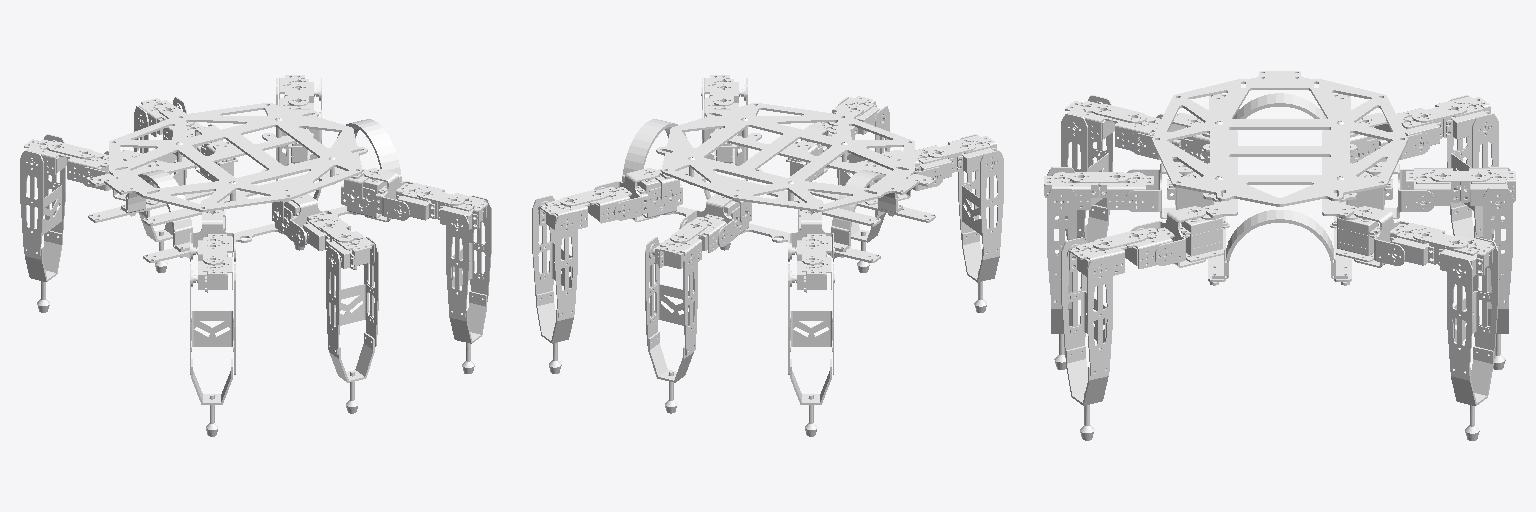
--- Facts derived from the render (not from the file) ---
Views: 3 orthographic renders of the robot side by side, from view 1: azimuth 30°, elevation 25°; view 2: azimuth 150°, elevation 25°; view 3: azimuth 270°, elevation 25°.
Model CRAB_0805 with 37 links and 36 joints (36 revolute), rooted at base_link, posed every joint at zero.
Links seen in each view (by area): view 1: base_link, RF_XI_LINK, LB_XI_LINK, RM_XI_LINK, RB_XI_LINK, RF_ZHOU_LINK, RM_ZHOU_LINK, LB_ZHOU_LINK, RB_ZHOU_LINK, LM_XI_LINK, RF_JIAN_LINK, LF_ZHOU_LINK (+4 smaller); view 2: base_link, LF_XI_LINK, RB_XI_LINK, LM_XI_LINK, LB_XI_LINK, LF_ZHOU_LINK, LM_ZHOU_LINK, RB_ZHOU_LINK, LB_ZHOU_LINK, RM_XI_LINK, LF_JIAN_LINK, RF_ZHOU_LINK (+4 smaller); view 3: base_link, RF_XI_LINK, LF_XI_LINK, RB_XI_LINK, LF_ZHOU_LINK, LM_ZHOU_LINK, RM_XI_LINK, LB_XI_LINK, LM_XI_LINK, RF_ZHOU_LINK, RM_ZHOU_LINK, LB_ZHOU_LINK (+7 smaller).
Link boxes in pixels (x1,y1,x2,y2): base_link: (88, 103, 401, 262); RF_XI_LINK: (446, 195, 491, 373); LB_XI_LINK: (20, 134, 65, 312); RM_XI_LINK: (326, 237, 378, 413); RB_XI_LINK: (190, 264, 235, 436); RF_ZHOU_LINK: (395, 183, 487, 229); RM_ZHOU_LINK: (300, 212, 374, 269); LB_ZHOU_LINK: (24, 139, 108, 182); RB_ZHOU_LINK: (191, 234, 232, 292); LM_XI_LINK: (134, 97, 186, 272); RF_JIAN_LINK: (364, 168, 412, 221); LF_ZHOU_LINK: (279, 75, 320, 117); base_link: (622, 103, 935, 262); LF_XI_LINK: (532, 195, 577, 373); RB_XI_LINK: (958, 134, 1003, 312); LM_XI_LINK: (645, 237, 697, 413); LB_XI_LINK: (788, 264, 833, 436); LF_ZHOU_LINK: (539, 187, 631, 229); LM_ZHOU_LINK: (655, 214, 726, 268); RB_ZHOU_LINK: (915, 135, 996, 178); LB_ZHOU_LINK: (790, 234, 834, 292); RM_XI_LINK: (837, 97, 889, 272); LF_JIAN_LINK: (594, 168, 659, 221); RF_ZHOU_LINK: (701, 75, 740, 117); base_link: (1152, 71, 1407, 285); RF_XI_LINK: (1061, 237, 1112, 440); LF_XI_LINK: (1447, 237, 1498, 440); RB_XI_LINK: (1061, 95, 1112, 288); LF_ZHOU_LINK: (1389, 223, 1494, 276); LM_ZHOU_LINK: (1406, 168, 1515, 207); RM_XI_LINK: (1047, 167, 1076, 369); LB_XI_LINK: (1447, 95, 1498, 289); LM_XI_LINK: (1483, 167, 1512, 369); RF_ZHOU_LINK: (1069, 227, 1174, 276); RM_ZHOU_LINK: (1044, 172, 1153, 209); LB_ZHOU_LINK: (1396, 96, 1490, 150).
Size in the robot's own frame: 0.4247 by 0.504 by 0.2592 metres.
34 mesh visuals loaded from 37 distinct referenced files (34 binary STL); not drawn: 3 (reference not matched to a file when rendering).

URDF robot description (CRAB_0805):
<?xml version="1.0" encoding="utf-8"?>
<!-- This URDF was automatically created by SolidWorks to URDF Exporter! Originally created by Stephen Brawner ([email redacted]) 
     Commit Version: 1.6.0-4-g7f85cfe  Build Version: 1.6.7995.38578
     For more information, please see http://wiki.ros.org/sw_urdf_exporter -->
<robot
  name="CRAB_0805">
  <link
    name="base_link">
    <inertial>
      <origin
        xyz="-0.008760263654412 -0.000396839544223537 -0.00928841996798015"
        rpy="0 0 0" />
      <mass
        value="0.487759555485896" />
      <inertia
        ixx="0.000838151997168944"
        ixy="-3.80585710120713E-09"
        ixz="1.31040513979038E-07"
        iyy="0.00178486179739814"
        iyz="3.05813375710027E-09"
        izz="0.00251247821208881" />
    </inertial>
    <visual>
      <origin
        xyz="0 0 0"
        rpy="0 0 0" />
      <geometry>
        <mesh
          filename="package://CRAB_0805/meshes/base_link.STL" />
      </geometry>
      <material
        name="">
        <color
          rgba="1 1 1 1" />
      </material>
    </visual>
    <collision>
      <origin
        xyz="0 0 0"
        rpy="0 0 0" />
      <geometry>
        <mesh
          filename="package://CRAB_0805/meshes/base_link.STL" />
      </geometry>
    </collision>
  </link>
  <link
    name="RM_JIAN_LINK">
    <inertial>
      <origin
        xyz="0.0244201219206724 2.42861286636753E-17 0.0014814150225653"
        rpy="0 0 0" />
      <mass
        value="0.0112910941477822" />
      <inertia
        ixx="6.49102206619316E-06"
        ixy="2.96805572151101E-21"
        ixz="-1.02290693133488E-09"
        iyy="6.04637024431847E-06"
        iyz="3.59696902698881E-22"
        izz="6.04706077477713E-06" />
    </inertial>
    <visual>
      <origin
        xyz="0 0 0"
        rpy="0 0 0" />
      <geometry>
        <mesh
          filename="package://CRAB_0805/meshes/RM_JIAN_LINK.STL" />
      </geometry>
      <material
        name="">
        <color
          rgba="1 1 1 1" />
      </material>
    </visual>
    <collision>
      <origin
        xyz="0 0 0"
        rpy="0 0 0" />
      <geometry>
        <mesh
          filename="package://CRAB_0805/meshes/RM_JIAN_LINK.STL" />
      </geometry>
    </collision>
  </link>
  <joint
    name="RM_JIAN_JOINT"
    type="revolute">
    <origin
      xyz="0.001 -0.1015 -0.0205"
      rpy="0 0 -1.5708" />
    <parent
      link="base_link" />
    <child
      link="RM_JIAN_LINK" />
    <axis
      xyz="0 0 -1" />
    <limit
      lower="-1.5708"
      upper="1.5708"
      effort="0"
      velocity="0" />
  </joint>
  <link
    name="RM_ZHOU_LINK">
    <inertial>
      <origin
        xyz="0.0396391594133572 0.00182574465334864 -0.00183117810438431"
        rpy="0 0 0" />
      <mass
        value="0.0753858251987763" />
      <inertia
        ixx="1.16745222076052E-05"
        ixy="5.94202594602449E-21"
        ixz="-5.10171003053864E-21"
        iyy="2.11125980635044E-05"
        iyz="-3.51485012854345E-07"
        izz="1.49159407182101E-05" />
    </inertial>
    <visual>
      <origin
        xyz="0 0 0"
        rpy="0 0 0" />
      <geometry>
        <mesh
          filename="package://CRAB_0805/meshes/RM_ZHOU_LINK.STL" />
      </geometry>
      <material
        name="">
        <color
          rgba="1 1 1 1" />
      </material>
    </visual>
    <collision>
      <origin
        xyz="0 0 0"
        rpy="0 0 0" />
      <geometry>
        <mesh
          filename="package://CRAB_0805/meshes/RM_ZHOU_LINK.STL" />
      </geometry>
    </collision>
  </link>
  <joint
    name="RM_ZHOU_JOINT"
    type="revolute">
    <origin
      xyz="0.052 0 0"
      rpy="1.5708 0 0" />
    <parent
      link="RM_JIAN_LINK" />
    <child
      link="RM_ZHOU_LINK" />
    <axis
      xyz="0 0 -1" />
    <limit
      lower="-1.5708"
      upper="1.5708"
      effort="0"
      velocity="0" />
  </joint>
  <link
    name="RM_XI_LINK">
    <inertial>
      <origin
        xyz="0.0932005324069179 -0.0010157129309824 0.000790208592210634"
        rpy="0 0 0" />
      <mass
        value="0.0276700407550857" />
      <inertia
        ixx="5.1714549299637E-06"
        ixy="9.42052533174234E-10"
        ixz="2.22403454373457E-20"
        iyy="2.93413790527495E-05"
        iyz="6.02528977543007E-21"
        izz="2.73009463290136E-05" />
    </inertial>
    <visual>
      <origin
        xyz="0 0 0"
        rpy="0 0 0" />
      <geometry>
        <mesh
          filename="package://CRAB_0805/meshes/RM_XI_LINK.STL" />
      </geometry>
      <material
        name="">
        <color
          rgba="1 1 1 1" />
      </material>
    </visual>
    <collision>
      <origin
        xyz="0 0 0"
        rpy="0 0 0" />
      <geometry>
        <mesh
          filename="package://CRAB_0805/meshes/RM_XI_LINK.STL" />
      </geometry>
    </collision>
  </link>
  <joint
    name="RM_XI_JOINT"
    type="revolute">
    <origin
      xyz="0.08 0 0"
      rpy="0 0 -1.5708" />
    <parent
      link="RM_ZHOU_LINK" />
    <child
      link="RM_XI_LINK" />
    <axis
      xyz="0 0 1" />
    <limit
      lower="-1.5708"
      upper="1.5708"
      effort="0"
      velocity="0" />
  </joint>
  <link
    name="RM_R_LINK">
    <inertial>
      <origin
        xyz="0 -5.55111512312578E-17 -2.77555756156289E-17"
        rpy="0 0 0" />
      <mass
        value="4.18879020478639E-06" />
      <inertia
        ixx="1.67551608191456E-12"
        ixy="0"
        ixz="1.79366203433577E-43"
        iyy="1.67551608191456E-12"
        iyz="1.54721492467482E-29"
        izz="1.67551608191456E-12" />
    </inertial>
    <visual>
      <origin
        xyz="0 0 0"
        rpy="0 0 0" />
      <geometry>
        <mesh
          filename="package://CRAB_0805/meshes/RM_R_LINK.STL" />
      </geometry>
      <material
        name="">
        <color
          rgba="0.792156862745098 0.819607843137255 0.933333333333333 1" />
      </material>
    </visual>
    <collision>
      <origin
        xyz="0 0 0"
        rpy="0 0 0" />
      <geometry>
        <mesh
          filename="package://CRAB_0805/meshes/RM_R_LINK.STL" />
      </geometry>
    </collision>
  </link>
  <joint
    name="RM_R_JOINT"
    type="revolute">
    <origin
      xyz="0.2095 0 0"
      rpy="3.1416 1.5708 0" />
    <parent
      link="RM_XI_LINK" />
    <child
      link="RM_R_LINK" />
    <axis
      xyz="0 0 -1" />
    <limit
      lower="-1.5708"
      upper="1.5708"
      effort="0"
      velocity="0" />
  </joint>
  <link
    name="RM_P_LINK">
    <inertial>
      <origin
        xyz="2.77555756156289E-17 -5.55111512312578E-17 0"
        rpy="0 0 0" />
      <mass
        value="4.18879020478639E-06" />
      <inertia
        ixx="1.67551608191456E-12"
        ixy="-1.54721492467482E-29"
        ixz="-1.79366203433577E-43"
        iyy="1.67551608191456E-12"
        iyz="0"
        izz="1.67551608191456E-12" />
    </inertial>
    <visual>
      <origin
        xyz="0 0 0"
        rpy="0 0 0" />
      <geometry>
        <mesh
          filename="package://CRAB_0805/meshes/RM_P_LINK.STL" />
      </geometry>
      <material
        name="">
        <color
          rgba="0.792156862745098 0.819607843137255 0.933333333333333 1" />
      </material>
    </visual>
    <collision>
      <origin
        xyz="0 0 0"
        rpy="0 0 0" />
      <geometry>
        <mesh
          filename="package://CRAB_0805/meshes/RM_P_LINK.STL" />
      </geometry>
    </collision>
  </link>
  <joint
    name="RM_P_JOINT"
    type="revolute">
    <origin
      xyz="0 0 0"
      rpy="0 1.5708 0" />
    <parent
      link="RM_R_LINK" />
    <child
      link="RM_P_LINK" />
    <axis
      xyz="0 0 -1" />
    <limit
      lower="-1.5708"
      upper="1.5708"
      effort="0"
      velocity="0" />
  </joint>
  <link
    name="RM_Y_LINK">
    <inertial>
      <origin
        xyz="2.77555756156289E-17 1.11022302462516E-16 5.55111512312578E-17"
        rpy="0 0 0" />
      <mass
        value="4.18879020478639E-06" />
      <inertia
        ixx="1.67551608191456E-12"
        ixy="-1.79366203433577E-43"
        ixz="1.54721492467482E-29"
        iyy="1.67551608191456E-12"
        iyz="0"
        izz="1.67551608191456E-12" />
    </inertial>
    <visual>
      <origin
        xyz="0 0 0"
        rpy="0 0 0" />
      <geometry>
        <mesh
          filename="package://CRAB_0805/meshes/RM_Y_LINK.STL" />
      </geometry>
      <material
        name="">
        <color
          rgba="0.792156862745098 0.819607843137255 0.933333333333333 1" />
      </material>
    </visual>
    <collision>
      <origin
        xyz="0 0 0"
        rpy="0 0 0" />
      <geometry>
        <mesh
          filename="package://CRAB_0805/meshes/RM_Y_LINK.STL" />
      </geometry>
    </collision>
  </link>
  <joint
    name="RM_Y_JOINT"
    type="revolute">
    <origin
      xyz="0 0 0"
      rpy="1.5708 0 0" />
    <parent
      link="RM_P_LINK" />
    <child
      link="RM_Y_LINK" />
    <axis
      xyz="0 0 1" />
    <limit
      lower="-1.5708"
      upper="1.5708"
      effort="0"
      velocity="0" />
  </joint>
  <link
    name="RF_JIAN_LINK">
    <inertial>
      <origin
        xyz="0.0244201219206724 1.38777878078145E-17 0.0014814150225653"
        rpy="0 0 0" />
      <mass
        value="0.0112910941477822" />
      <inertia
        ixx="6.49102206619316E-06"
        ixy="8.470329472543E-22"
        ixz="-1.02290693133536E-09"
        iyy="6.04637024431847E-06"
        iyz="2.21559360455071E-21"
        izz="6.04706077477712E-06" />
    </inertial>
    <visual>
      <origin
        xyz="0 0 0"
        rpy="0 0 0" />
      <geometry>
        <mesh
          filename="package://CRAB_0805/meshes/RF_JIAN_LINK.STL" />
      </geometry>
      <material
        name="">
        <color
          rgba="1 1 1 1" />
      </material>
    </visual>
    <collision>
      <origin
        xyz="0 0 0"
        rpy="0 0 0" />
      <geometry>
        <mesh
          filename="package://CRAB_0805/meshes/RF_JIAN_LINK.STL" />
      </geometry>
    </collision>
  </link>
  <joint
    name="RF_JIAN_JOINT"
    type="revolute">
    <origin
      xyz="0.11412 -0.091732 -0.0205"
      rpy="0 0 -1.0472" />
    <parent
      link="base_link" />
    <child
      link="RF_JIAN_LINK" />
    <axis
      xyz="0 0 -1" />
    <limit
      lower="-1.5708"
      upper="1.5708"
      effort="0"
      velocity="0" />
  </joint>
  <link
    name="RF_ZHOU_LINK">
    <inertial>
      <origin
        xyz="0.0396391594133572 0.00182574465334865 -0.00183117810438431"
        rpy="0 0 0" />
      <mass
        value="0.0753858251987762" />
      <inertia
        ixx="1.16745222076052E-05"
        ixy="9.99680377421895E-21"
        ixz="-3.81164826264435E-21"
        iyy="2.11125980635043E-05"
        iyz="-3.51485012854344E-07"
        izz="1.49159407182101E-05" />
    </inertial>
    <visual>
      <origin
        xyz="0 0 0"
        rpy="0 0 0" />
      <geometry>
        <mesh
          filename="package://CRAB_0805/meshes/RF_ZHOU_LINK.STL" />
      </geometry>
      <material
        name="">
        <color
          rgba="1 1 1 1" />
      </material>
    </visual>
    <collision>
      <origin
        xyz="0 0 0"
        rpy="0 0 0" />
      <geometry>
        <mesh
          filename="package://CRAB_0805/meshes/RF_ZHOU_LINK.STL" />
      </geometry>
    </collision>
  </link>
  <joint
    name="RF_ZHOU_JOINT"
    type="revolute">
    <origin
      xyz="0.052 0 0"
      rpy="1.5708 0 0" />
    <parent
      link="RF_JIAN_LINK" />
    <child
      link="RF_ZHOU_LINK" />
    <axis
      xyz="0 0 -1" />
    <limit
      lower="-1.5708"
      upper="1.5708"
      effort="0"
      velocity="0" />
  </joint>
  <link
    name="RF_XI_LINK">
    <inertial>
      <origin
        xyz="0.093200532406918 -0.0010157129309824 0.000790208592210601"
        rpy="0 0 0" />
      <mass
        value="0.0276700407550858" />
      <inertia
        ixx="5.17145492996371E-06"
        ixy="9.42052533167247E-10"
        ixz="1.60496100546135E-20"
        iyy="2.93413790527494E-05"
        iyz="2.45639554703747E-20"
        izz="2.73009463290135E-05" />
    </inertial>
    <visual>
      <origin
        xyz="0 0 0"
        rpy="0 0 0" />
      <geometry>
        <mesh
          filename="package://CRAB_0805/meshes/RF_XI_LINK.STL" />
      </geometry>
      <material
        name="">
        <color
          rgba="1 1 1 1" />
      </material>
    </visual>
    <collision>
      <origin
        xyz="0 0 0"
        rpy="0 0 0" />
      <geometry>
        <mesh
          filename="package://CRAB_0805/meshes/RF_XI_LINK.STL" />
      </geometry>
    </collision>
  </link>
  <joint
    name="RF_XI_JOINT"
    type="revolute">
    <origin
      xyz="0.08 0 0"
      rpy="0 0 -1.5708" />
    <parent
      link="RF_ZHOU_LINK" />
    <child
      link="RF_XI_LINK" />
    <axis
      xyz="0 0 1" />
    <limit
      lower="-1.5708"
      upper="1.5708"
      effort="0"
      velocity="0" />
  </joint>
  <link
    name="RF_R_LINK">
    <inertial>
      <origin
        xyz="0 -5.55111512312578E-17 -8.32667268468867E-17"
        rpy="0 0 0" />
      <mass
        value="4.18879020478639E-06" />
      <inertia
        ixx="1.67551608191456E-12"
        ixy="0"
        ixz="1.79366203433577E-43"
        iyy="1.67551608191456E-12"
        iyz="3.09442984934322E-29"
        izz="1.67551608191456E-12" />
    </inertial>
    <visual>
      <origin
        xyz="0 0 0"
        rpy="0 0 0" />
      <geometry>
        <mesh
          filename="package://CRAB_0805/meshes/RF_R_LINK.STL" />
      </geometry>
      <material
        name="">
        <color
          rgba="0.792156862745098 0.819607843137255 0.933333333333333 1" />
      </material>
    </visual>
    <collision>
      <origin
        xyz="0 0 0"
        rpy="0 0 0" />
      <geometry>
        <mesh
          filename="package://CRAB_0805/meshes/RF_R_LINK.STL" />
      </geometry>
    </collision>
  </link>
  <joint
    name="RF_R_JOINT"
    type="revolute">
    <origin
      xyz="0.2095 0 0"
      rpy="-1.5708 1.0472 1.5708" />
    <parent
      link="RF_XI_LINK" />
    <child
      link="RF_R_LINK" />
    <axis
      xyz="0 0 -1" />
    <limit
      lower="-1.5708"
      upper="1.5708"
      effort="0"
      velocity="0" />
  </joint>
  <link
    name="RF_P_LINK">
    <inertial>
      <origin
        xyz="0 0 0"
        rpy="0 0 0" />
      <mass
        value="4.18879020478639E-06" />
      <inertia
        ixx="1.67551608191456E-12"
        ixy="-3.09442984934322E-29"
        ixz="-1.79366203433577E-43"
        iyy="1.67551608191456E-12"
        iyz="0"
        izz="1.67551608191456E-12" />
    </inertial>
    <visual>
      <origin
        xyz="0 0 0"
        rpy="0 0 0" />
      <geometry>
        <mesh
          filename="package://CRAB_0805/meshes/RF_P_LINK.STL" />
      </geometry>
      <material
        name="">
        <color
          rgba="0.792156862745098 0.819607843137255 0.933333333333333 1" />
      </material>
    </visual>
    <collision>
      <origin
        xyz="0 0 0"
        rpy="0 0 0" />
      <geometry>
        <mesh
          filename="package://CRAB_0805/meshes/RF_P_LINK.STL" />
      </geometry>
    </collision>
  </link>
  <joint
    name="RF_P_JOINT"
    type="revolute">
    <origin
      xyz="0 0 0"
      rpy="0 1.5708 0" />
    <parent
      link="RF_R_LINK" />
    <child
      link="RF_P_LINK" />
    <axis
      xyz="0 0 -1" />
    <limit
      lower="-1.5708"
      upper="1.5708"
      effort="0"
      velocity="0" />
  </joint>
  <link
    name="RF_Y_LINK">
    <inertial>
      <origin
        xyz="2.77555756156289E-17 0 5.55111512312578E-17"
        rpy="0 0 0" />
      <mass
        value="4.18879020478639E-06" />
      <inertia
        ixx="1.67551608191456E-12"
        ixy="-1.79366203433577E-43"
        ixz="3.09442984934322E-29"
        iyy="1.67551608191456E-12"
        iyz="0"
        izz="1.67551608191456E-12" />
    </inertial>
    <visual>
      <origin
        xyz="0 0 0"
        rpy="0 0 0" />
      <geometry>
        <mesh
          filename="package://CRAB_0805/meshes/RF_Y_LINK.STL" />
      </geometry>
      <material
        name="">
        <color
          rgba="0.792156862745098 0.819607843137255 0.933333333333333 1" />
      </material>
    </visual>
    <collision>
      <origin
        xyz="0 0 0"
        rpy="0 0 0" />
      <geometry>
        <mesh
          filename="package://CRAB_0805/meshes/RF_Y_LINK.STL" />
      </geometry>
    </collision>
  </link>
  <joint
    name="RF_Y_JOINT"
    type="revolute">
    <origin
      xyz="0 0 0"
      rpy="1.5708 0 0" />
    <parent
      link="RF_P_LINK" />
    <child
      link="RF_Y_LINK" />
    <axis
      xyz="0 0 1" />
    <limit
      lower="-1.5708"
      upper="1.5708"
      effort="0"
      velocity="0" />
  </joint>
  <link
    name="LF_JIAN_LINK">
    <inertial>
      <origin
        xyz="0.0244201219206724 -1.38777878078145E-17 0.00148141502256527"
        rpy="0 0 0" />
      <mass
        value="0.0112910941477822" />
      <inertia
        ixx="6.49102206619317E-06"
        ixy="7.83505476210228E-21"
        ixz="-1.02290693133999E-09"
        iyy="6.04637024431849E-06"
        iyz="3.37787049473538E-21"
        izz="6.04706077477715E-06" />
    </inertial>
    <visual>
      <origin
        xyz="0 0 0"
        rpy="0 0 0" />
      <geometry>
        <mesh
          filename="package://CRAB_0805/meshes/LF_JIAN_LINK.STL" />
      </geometry>
      <material
        name="">
        <color
          rgba="1 1 1 1" />
      </material>
    </visual>
    <collision>
      <origin
        xyz="0 0 0"
        rpy="0 0 0" />
      <geometry>
        <mesh
          filename="package://CRAB_0805/meshes/LF_JIAN_LINK.STL" />
      </geometry>
    </collision>
  </link>
  <joint
    name="LF_JIAN_JOINT"
    type="revolute">
    <origin
      xyz="0.11412 0.091732 -0.0205"
      rpy="0 0 1.0472" />
    <parent
      link="base_link" />
    <child
      link="LF_JIAN_LINK" />
    <axis
      xyz="0 0 -1" />
    <limit
      lower="-1.5708"
      upper="1.5708"
      effort="0"
      velocity="0" />
  </joint>
  <link
    name="LF_ZHOU_LINK">
    <inertial>
      <origin
        xyz="0.0396391594133572 0.00182574465334865 -0.00183117810438427"
        rpy="0 0 0" />
      <mass
        value="0.0753858251987763" />
      <inertia
        ixx="1.16745222076053E-05"
        ixy="8.34482585687389E-21"
        ixz="-8.470329472543E-22"
        iyy="2.11125980635044E-05"
        iyz="-3.5148501285434E-07"
        izz="1.49159407182101E-05" />
    </inertial>
    <visual>
      <origin
        xyz="0 0 0"
        rpy="0 0 0" />
      <geometry>
        <mesh
          filename="package://CRAB_0805/meshes/LF_ZHOU_LINK.STL" />
      </geometry>
      <material
        name="">
        <color
          rgba="1 1 1 1" />
      </material>
    </visual>
    <collision>
      <origin
        xyz="0 0 0"
        rpy="0 0 0" />
      <geometry>
        <mesh
          filename="package://CRAB_0805/meshes/LF_ZHOU_LINK.STL" />
      </geometry>
    </collision>
  </link>
  <joint
    name="LF_ZHOU_JOINT"
    type="revolute">
    <origin
      xyz="0.052 0 0"
      rpy="1.5708 0 0" />
    <parent
      link="LF_JIAN_LINK" />
    <child
      link="LF_ZHOU_LINK" />
    <axis
      xyz="0 0 -1" />
    <limit
      lower="-1.5708"
      upper="1.5708"
      effort="0"
      velocity="0" />
  </joint>
  <link
    name="LF_XI_LINK">
    <inertial>
      <origin
        xyz="0.0932005324069179 -0.00101571293098254 0.000790208592210642"
        rpy="0 0 0" />
      <mass
        value="0.0276700407550858" />
      <inertia
        ixx="5.1714549299637E-06"
        ixy="9.42052533169355E-10"
        ixz="1.76589769786186E-20"
        iyy="2.93413790527495E-05"
        iyz="0"
        izz="2.73009463290136E-05" />
    </inertial>
    <visual>
      <origin
        xyz="0 0 0"
        rpy="0 0 0" />
      <geometry>
        <mesh
          filename="package://CRAB_0805/meshes/LF_XI_LINK.STL" />
      </geometry>
      <material
        name="">
        <color
          rgba="1 1 1 1" />
      </material>
    </visual>
    <collision>
      <origin
        xyz="0 0 0"
        rpy="0 0 0" />
      <geometry>
        <mesh
          filename="package://CRAB_0805/meshes/LF_XI_LINK.STL" />
      </geometry>
    </collision>
  </link>
  <joint
    name="LF_XI_JOINT"
    type="revolute">
    <origin
      xyz="0.08 0 0"
      rpy="0 0 -1.5708" />
    <parent
      link="LF_ZHOU_LINK" />
    <child
      link="LF_XI_LINK" />
    <axis
      xyz="0 0 1" />
    <limit
      lower="-1.5708"
      upper="1.5708"
      effort="0"
      velocity="0" />
  </joint>
  <link
    name="LF_R_LINK">
    <inertial>
      <origin
        xyz="2.77555756156289E-17 2.77555756156289E-17 0"
        rpy="0 0 0" />
      <mass
        value="4.18879020478639E-06" />
      <inertia
        ixx="1.67551608191456E-12"
        ixy="0"
        ixz="1.79366203433577E-43"
        iyy="1.67551608191456E-12"
        iyz="3.09442984934322E-29"
        izz="1.67551608191456E-12" />
    </inertial>
    <visual>
      <origin
        xyz="0 0 0"
        rpy="0 0 0" />
      <geometry>
        <mesh
          filename="package://CRAB_0805/meshes/LF_R_LINK.STL" />
      </geometry>
      <material
        name="">
        <color
          rgba="0.792156862745098 0.819607843137255 0.933333333333333 1" />
      </material>
    </visual>
    <collision>
      <origin
        xyz="0 0 0"
        rpy="0 0 0" />
      <geometry>
        <mesh
          filename="package://CRAB_0805/meshes/LF_R_LINK.STL" />
      </geometry>
    </collision>
  </link>
  <joint
    name="LF_R_JOINT"
    type="revolute">
    <origin
      xyz="0.2095 0 0"
      rpy="-1.5708 -1.0472 1.5708" />
    <parent
      link="LF_XI_LINK" />
    <child
      link="LF_R_LINK" />
    <axis
      xyz="0 0 -1" />
    <limit
      lower="-1.5708"
      upper="1.5708"
      effort="0"
      velocity="0" />
  </joint>
  <link
    name="LF_P_LINK">
    <inertial>
      <origin
        xyz="0 2.77555756156289E-17 2.77555756156289E-17"
        rpy="0 0 0" />
      <mass
        value="4.18879020478639E-06" />
      <inertia
        ixx="1.67551608191456E-12"
        ixy="-3.09442984934322E-29"
        ixz="-1.79366203433577E-43"
        iyy="1.67551608191456E-12"
        iyz="0"
        izz="1.67551608191456E-12" />
    </inertial>
    <visual>
      <origin
        xyz="0 0 0"
        rpy="0 0 0" />
      <geometry>
        <mesh
          filename="package://CRAB_0805/meshes/LF_P_LINK.STL" />
      </geometry>
      <material
        name="">
        <color
          rgba="0.792156862745098 0.819607843137255 0.933333333333333 1" />
      </material>
    </visual>
    <collision>
      <origin
        xyz="0 0 0"
        rpy="0 0 0" />
      <geometry>
        <mesh
          filename="package://CRAB_0805/meshes/LF_P_LINK.STL" />
      </geometry>
    </collision>
  </link>
  <joint
    name="LF_P_JOINT"
    type="revolute">
    <origin
      xyz="0 0 0"
      rpy="0 1.5708 0" />
    <parent
      link="LF_R_LINK" />
    <child
      link="LF_P_LINK" />
    <axis
      xyz="0 0 -1" />
    <limit
      lower="-1.5708"
      upper="1.5708"
      effort="0"
      velocity="0" />
  </joint>
  <link
    name="LF_Y_LINK">
    <inertial>
      <origin
        xyz="0 1.38777878078145E-16 -2.77555756156289E-17"
        rpy="0 0 0" />
      <mass
        value="4.18879020478639E-06" />
      <inertia
        ixx="1.67551608191456E-12"
        ixy="-1.79366203433577E-43"
        ixz="3.09442984934322E-29"
        iyy="1.67551608191456E-12"
        iyz="0"
        izz="1.67551608191456E-12" />
    </inertial>
    <visual>
      <origin
        xyz="0 0 0"
        rpy="0 0 0" />
      <geometry>
        <mesh
          filename="package://CRAB_0805/meshes/LF_Y_LINK.STL" />
      </geometry>
      <material
        name="">
        <color
          rgba="0.792156862745098 0.819607843137255 0.933333333333333 1" />
      </material>
    </visual>
    <collision>
      <origin
        xyz="0 0 0"
        rpy="0 0 0" />
      <geometry>
        <mesh
          filename="package://CRAB_0805/meshes/LF_Y_LINK.STL" />
      </geometry>
    </collision>
  </link>
  <joint
    name="LF_Y_JOINT"
    type="revolute">
    <origin
      xyz="0 0 0"
      rpy="1.5708 0 0" />
    <parent
      link="LF_P_LINK" />
    <child
      link="LF_Y_LINK" />
    <axis
      xyz="0 0 1" />
    <limit
      lower="-1.5708"
      upper="1.5708"
      effort="0"
      velocity="0" />
  </joint>
  <link
    name="LM_JIAN_LINK">
    <inertial>
      <origin
        xyz="0.0244201219206724 0 0.0014814150225653"
        rpy="0 0 0" />
      <mass
        value="0.0112910941477822" />
      <inertia
        ixx="6.49102206619317E-06"
        ixy="2.07089857546024E-21"
        ixz="-1.02290693133586E-09"
        iyy="6.04637024431848E-06"
        iyz="1.52776577782859E-21"
        izz="6.04706077477715E-06" />
    </inertial>
    <visual>
      <origin
        xyz="0 0 0"
        rpy="0 0 0" />
      <geometry>
        <mesh
          filename="package://CRAB_0805/meshes/LM_JIAN_LINK.STL" />
      </geometry>
      <material
        name="">
        <color
          rgba="1 1 1 1" />
      </material>
    </visual>
    <collision>
      <origin
        xyz="0 0 0"
        rpy="0 0 0" />
      <geometry>
        <mesh
          filename="package://CRAB_0805/meshes/LM_JIAN_LINK.STL" />
      </geometry>
    </collision>
  </link>
  <joint
    name="LM_JIAN_JOINT"
    type="revolute">
    <origin
      xyz="0.001 0.1015 -0.0205"
      rpy="0 0 1.5708" />
    <parent
      link="base_link" />
    <child
      link="LM_JIAN_LINK" />
    <axis
      xyz="0 0 -1" />
    <limit
      lower="-1.5708"
      upper="1.5708"
      effort="0"
      velocity="0" />
  </joint>
  <link
    name="LM_ZHOU_LINK">
    <inertial>
      <origin
        xyz="0.0396391594133572 0.00182574465334819 -0.00183117810438437"
        rpy="0 0 0" />
      <mass
        value="0.0753858251987764" />
      <inertia
        ixx="1.16745222076053E-05"
        ixy="1.18503643541483E-19"
        ixz="7.16012690756494E-22"
        iyy="2.11125980635044E-05"
        iyz="-3.51485012854346E-07"
        izz="1.49159407182101E-05" />
    </inertial>
    <visual>
      <origin
        xyz="0 0 0"
        rpy="0 0 0" />
      <geometry>
        <mesh
          filename="package://CRAB_0805/meshes/LM_ZHOU_LINK.STL" />
      </geometry>
      <material
        name="">
        <color
          rgba="1 1 1 1" />
      </material>
    </visual>
    <collision>
      <origin
        xyz="0 0 0"
        rpy="0 0 0" />
      <geometry>
        <mesh
          filename="package://CRAB_0805/meshes/LM_ZHOU_LINK.STL" />
      </geometry>
    </collision>
  </link>
  <joint
    name="LM_ZHOU_JOINT"
    type="revolute">
    <origin
      xyz="0.052 0 0"
      rpy="1.5708 0 0" />
    <parent
      link="LM_JIAN_LINK" />
    <child
      link="LM_ZHOU_LINK" />
    <axis
      xyz="0 0 -1" />
    <limit
      lower="-1.5708"
      upper="1.5708"
      effort="0"
      velocity="0" />
  </joint>
  <link
    name="LM_XI_LINK">
    <inertial>
      <origin
        xyz="0.0932005324069179 -0.00101571293098252 0.000790208592210656"
        rpy="0 0 0" />
      <mass
        value="0.0276700407550857" />
      <inertia
        ixx="5.17145492996367E-06"
        ixy="9.42052533166694E-10"
        ixz="2.11695652161137E-20"
        iyy="2.93413790527494E-05"
        iyz="1.14203509269988E-20"
        izz="2.73009463290135E-05" />
    </inertial>
    <visual>
      <origin
        xyz="0 0 0"
        rpy="0 0 0" />
      <geometry>
        <mesh
          filename="package://CRAB_0805/meshes/LM_XI_LINK.STL" />
      </geometry>
      <material
        name="">
        <color
          rgba="1 1 1 1" />
      </material>
    </visual>
    <collision>
      <origin
        xyz="0 0 0"
        rpy="0 0 0" />
      <geometry>
        <mesh
          filename="package://CRAB_0805/meshes/LM_XI_LINK.STL" />
      </geometry>
    </collision>
  </link>
  <joint
    name="LM_XI_JOINT"
    type="revolute">
    <origin
      xyz="0.08 0 0"
      rpy="0 0 -1.5708" />
    <parent
      link="LM_ZHOU_LINK" />
    <child
      link="LM_XI_LINK" />
    <axis
      xyz="0 0 1" />
    <limit
      lower="-1.5708"
      upper="1.5708"
      effort="0"
      velocity="0" />
  </joint>
  <link
    name="LM_R_LINK">
    <inertial>
      <origin
        xyz="0 0 0"
        rpy="0 0 0" />
      <mass
        value="4.18879020478639E-06" />
      <inertia
        ixx="1.67551608191456E-12"
        ixy="0"
        ixz="1.79366203433577E-43"
        iyy="1.67551608191456E-12"
        iyz="1.54721492467482E-29"
        izz="1.67551608191456E-12" />
    </inertial>
    <visual>
      <origin
        xyz="0 0 0"
        rpy="0 0 0" />
      <geometry>
        <mesh
          filename="package://CRAB_0805/meshes/LM_R_LINK.STL" />
      </geometry>
      <material
        name="">
        <color
          rgba="0.792156862745098 0.819607843137255 0.933333333333333 1" />
      </material>
    </visual>
    <collision>
      <origin
        xyz="0 0 0"
        rpy="0 0 0" />
      <geometry>
        <mesh
          filename="package://CRAB_0805/meshes/LM_R_LINK.STL" />
      </geometry>
    </collision>
  </link>
  <joint
    name="LM_R_JOINT"
    type="revolute">
    <origin
      xyz="0.2095 0 0"
      rpy="3.1416 -1.5708 0" />
    <parent
      link="LM_XI_LINK" />
    <child
      link="LM_R_LINK" />
    <axis
      xyz="0 0 -1" />
    <limit
      lower="-1.5708"
      upper="1.5708"
      effort="0"
      velocity="0" />
  </joint>
  <link
    name="LM_P_LINK">
    <inertial>
      <origin
        xyz="0 0 0"
        rpy="0 0 0" />
      <mass
        value="4.18879020478639E-06" />
      <inertia
        ixx="1.67551608191456E-12"
        ixy="-1.54721492467482E-29"
        ixz="-1.79366203433577E-43"
        iyy="1.67551608191456E-12"
        iyz="0"
        izz="1.67551608191456E-12" />
    </inertial>
    <visual>
      <origin
        xyz="0 0 0"
        rpy="0 0 0" />
      <geometry>
        <mesh
          filename="package://CRAB_0805/meshes/LM_P_LINK.STL" />
      </geometry>
      <material
        name="">
        <color
          rgba="0.792156862745098 0.819607843137255 0.933333333333333 1" />
      </material>
    </visual>
    <collision>
      <origin
        xyz="0 0 0"
        rpy="0 0 0" />
      <geometry>
        <mesh
          filename="package://CRAB_0805/meshes/LM_P_LINK.STL" />
      </geometry>
    </collision>
  </link>
  <joint
    name="LM_P_JOINT"
    type="revolute">
    <origin
      xyz="0 0 0"
      rpy="0 1.5708 0" />
    <parent
      link="LM_R_LINK" />
    <child
      link="LM_P_LINK" />
    <axis
      xyz="0 0 -1" />
    <limit
      lower="-1.5708"
      upper="1.5708"
      effort="0"
      velocity="0" />
  </joint>
  <link
    name="LM_Y_LINK">
    <inertial>
      <origin
        xyz="0 0 0"
        rpy="0 0 0" />
      <mass
        value="4.18879020478639E-06" />
      <inertia
        ixx="1.67551608191456E-12"
        ixy="-1.79366203433577E-43"
        ixz="1.54721492467482E-29"
        iyy="1.67551608191456E-12"
        iyz="0"
        izz="1.67551608191456E-12" />
    </inertial>
    <visual>
      <origin
        xyz="0 0 0"
        rpy="0 0 0" />
      <geometry>
        <mesh
          filename="package://CRAB_0805/meshes/LM_Y_LINK.STL" />
      </geometry>
      <material
        name="">
        <color
          rgba="0.792156862745098 0.819607843137255 0.933333333333333 1" />
      </material>
    </visual>
    <collision>
      <origin
        xyz="0 0 0"
        rpy="0 0 0" />
      <geometry>
        <mesh
          filename="package://CRAB_0805/meshes/LM_Y_LINK.STL" />
      </geometry>
    </collision>
  </link>
  <joint
    name="LM_Y_JOINT"
    type="revolute">
    <origin
      xyz="0 0 0"
      rpy="1.5708 0 0" />
    <parent
      link="LM_P_LINK" />
    <child
      link="LM_Y_LINK" />
    <axis
      xyz="0 0 1" />
    <limit
      lower="-1.5708"
      upper="1.5708"
      effort="0"
      velocity="0" />
  </joint>
  <link
    name="LB_JIAN_LINK">
    <inertial>
      <origin
        xyz="0.0244201219206724 -1.38777878078145E-17 0.0014814150225653"
        rpy="0 0 0" />
      <mass
        value="0.0112910941477822" />
      <inertia
        ixx="6.49102206619318E-06"
        ixy="-1.6940658945086E-21"
        ixz="-1.02290693133348E-09"
        iyy="6.04637024431849E-06"
        iyz="-8.13120837817316E-24"
        izz="6.04706077477715E-06" />
    </inertial>
    <visual>
      <origin
        xyz="0 0 0"
        rpy="0 0 0" />
      <geometry>
        <mesh
          filename="package://CRAB_0805/meshes/LB_JIAN_LINK.STL" />
      </geometry>
      <material
        name="">
        <color
          rgba="1 1 1 1" />
      </material>
    </visual>
    <collision>
      <origin
        xyz="0 0 0"
        rpy="0 0 0" />
      <geometry>
        <mesh
          filename="package://CRAB_0805/meshes/LB_JIAN_LINK.STL" />
      </geometry>
    </collision>
  </link>
  <joint
    name="LB_JIAN_JOINT"
    type="revolute">
    <origin
      xyz="-0.11412 0.091732 -0.0205"
      rpy="0 0 2.0944" />
    <parent
      link="base_link" />
    <child
      link="LB_JIAN_LINK" />
    <axis
      xyz="0 0 -1" />
    <limit
      lower="-1.5708"
      upper="1.5708"
      effort="0"
      velocity="0" />
  </joint>
  <link
    name="LB_ZHOU_LINK">
    <inertial>
      <origin
        xyz="0.0396391594133572 0.00182574465334864 -0.00183117810438425"
        rpy="0 0 0" />
      <mass
        value="0.0753858251987763" />
      <inertia
        ixx="1.16745222076052E-05"
        ixy="6.5334061760715E-21"
        ixz="-2.96461531539005E-21"
        iyy="2.11125980635044E-05"
        iyz="-3.51485012854342E-07"
        izz="1.49159407182101E-05" />
    </inertial>
    <visual>
      <origin
        xyz="0 0 0"
        rpy="0 0 0" />
      <geometry>
        <mesh
          filename="package://CRAB_0805/meshes/LB_ZHOU_LINK.STL" />
      </geometry>
      <material
        name="">
        <color
          rgba="1 1 1 1" />
      </material>
    </visual>
    <collision>
      <origin
        xyz="0 0 0"
        rpy="0 0 0" />
      <geometry>
        <mesh
          filename="package://CRAB_0805/meshes/LB_ZHOU_LINK.STL" />
      </geometry>
    </collision>
  </link>
  <joint
    name="LB_ZHOU_JOINT"
    type="revolute">
    <origin
      xyz="0.052 0 0"
      rpy="1.5708 0 0" />
    <parent
      link="LB_JIAN_LINK" />
    <child
      link="LB_ZHOU_LINK" />
    <axis
      xyz="0 0 -1" />
    <limit
      lower="-1.5708"
      upper="1.5708"
      effort="0"
      velocity="0" />
  </joint>
  <link
    name="LB_XI_LINK">
    <inertial>
      <origin
        xyz="0.0932005324069179 -0.00101571293098246 0.000790208592210559"
        rpy="0 0 0" />
      <mass
        value="0.0276700407550857" />
      <inertia
        ixx="5.17145492996368E-06"
        ixy="9.42052533170927E-10"
        ixz="1.79601091811779E-20"
        iyy="2.93413790527495E-05"
        iyz="1.6940658945086E-20"
        izz="2.73009463290136E-05" />
    </inertial>
    <visual>
      <origin
        xyz="0 0 0"
        rpy="0 0 0" />
      <geometry>
        <mesh
          filename="package://CRAB_0805/meshes/LB_XI_LINK.STL" />
      </geometry>
      <material
        name="">
        <color
          rgba="1 1 1 1" />
      </material>
    </visual>
    <collision>
      <origin
        xyz="0 0 0"
        rpy="0 0 0" />
      <geometry>
        <mesh
          filename="package://CRAB_0805/meshes/LB_XI_LINK.STL" />
      </geometry>
    </collision>
  </link>
  <joint
    name="LB_XI_JOINT"
    type="revolute">
    <origin
      xyz="0.08 0 0"
      rpy="0 0 -1.5708" />
    <parent
      link="LB_ZHOU_LINK" />
    <child
      link="LB_XI_LINK" />
    <axis
      xyz="0 0 1" />
    <limit
      lower="-1.5708"
      upper="1.5708"
      effort="0"
      velocity="0" />
  </joint>
  <link
    name="LB_R_LINK">
    <inertial>
      <origin
        xyz="-1.11022302462516E-16 8.32667268468867E-17 -8.32667268468867E-17"
        rpy="0 0 0" />
      <mass
        value="4.18879020478639E-06" />
      <inertia
        ixx="1.67551608191456E-12"
        ixy="0"
        ixz="1.79366203433577E-43"
        iyy="1.67551608191456E-12"
        iyz="3.09442984934322E-29"
        izz="1.67551608191456E-12" />
    </inertial>
    <visual>
      <origin
        xyz="0 0 0"
        rpy="0 0 0" />
      <geometry>
        <mesh
          filename="package://CRAB_0805/meshes/LB_R_LINK.STL" />
      </geometry>
      <material
        name="">
        <color
          rgba="0.792156862745098 0.819607843137255 0.933333333333333 1" />
      </material>
    </visual>
    <collision>
      <origin
        xyz="0 0 0"
        rpy="0 0 0" />
      <geometry>
        <mesh
          filename="package://CRAB_0805/meshes/LB_R_LINK.STL" />
      </geometry>
    </collision>
  </link>
  <joint
    name="LB_R_JOINT"
    type="revolute">
    <origin
      xyz="0.2095 0 0"
      rpy="1.5708 -1.0472 -1.5708" />
    <parent
      link="LB_XI_LINK" />
    <child
      link="LB_R_LINK" />
    <axis
      xyz="0 0 -1" />
    <limit
      lower="-1.5708"
      upper="1.5708"
      effort="0"
      velocity="0" />
  </joint>
  <link
    name="LB_P_LINK">
    <inertial>
      <origin
        xyz="2.77555756156289E-17 0 0"
        rpy="0 0 0" />
      <mass
        value="4.18879020478639E-06" />
      <inertia
        ixx="1.67551608191456E-12"
        ixy="-3.09442984934322E-29"
        ixz="-1.79366203433577E-43"
        iyy="1.67551608191456E-12"
        iyz="0"
        izz="1.67551608191456E-12" />
    </inertial>
    <visual>
      <origin
        xyz="0 0 0"
        rpy="0 0 0" />
      <geometry>
        <mesh
          filename="package://CRAB_0805/meshes/LB_P_LINK.STL" />
      </geometry>
      <material
        name="">
        <color
          rgba="0.792156862745098 0.819607843137255 0.933333333333333 1" />
      </material>
    </visual>
    <collision>
      <origin
        xyz="0 0 0"
        rpy="0 0 0" />
      <geometry>
        <mesh
          filename="package://CRAB_0805/meshes/LB_P_LINK.STL" />
      </geometry>
    </collision>
  </link>
  <joint
    name="LB_P_JOINT"
    type="revolute">
    <origin
      xyz="0 0 0"
      rpy="0 1.5708 0" />
    <parent
      link="LB_R_LINK" />
    <child
      link="LB_P_LINK" />
    <axis
      xyz="0 0 -1" />
    <limit
      lower="-1.5708"
      upper="1.5708"
      effort="0"
      velocity="0" />
  </joint>
  <link
    name="LB_Y_LINK">
    <inertial>
      <origin
        xyz="-2.77555756156289E-17 5.27355936696949E-16 5.55111512312578E-17"
        rpy="0 0 0" />
      <mass
        value="4.18879020478639E-06" />
      <inertia
        ixx="1.67551608191456E-12"
        ixy="-1.79366203433577E-43"
        ixz="3.09442984934322E-29"
        iyy="1.67551608191456E-12"
        iyz="0"
        izz="1.67551608191456E-12" />
    </inertial>
    <visual>
      <origin
        xyz="0 0 0"
        rpy="0 0 0" />
      <geometry>
        <mesh
          filename="package://CRAB_0805/meshes/LB_Y_LINK.STL" />
      </geometry>
      <material
        name="">
        <color
          rgba="0.792156862745098 0.819607843137255 0.933333333333333 1" />
      </material>
    </visual>
    <collision>
      <origin
        xyz="0 0 0"
        rpy="0 0 0" />
      <geometry>
        <mesh
          filename="package://CRAB_0805/meshes/LB_Y_LINK.STL" />
      </geometry>
    </collision>
  </link>
  <joint
    name="LB_Y_JOINT"
    type="revolute">
    <origin
      xyz="0 0 0"
      rpy="1.5708 0 0" />
    <parent
      link="LB_P_LINK" />
    <child
      link="LB_Y_LINK" />
    <axis
      xyz="0 0 1" />
    <limit
      lower="-1.5708"
      upper="1.5708"
      effort="0"
      velocity="0" />
  </joint>
  <link
    name="RB_JIAN_LINK">
    <inertial>
      <origin
        xyz="0.0244201219206724 0 0.0014814150225653"
        rpy="0 0 0" />
      <mass
        value="0.0112910941477823" />
      <inertia
        ixx="6.49102206619319E-06"
        ixy="-1.90582413132218E-21"
        ixz="-1.02290693133287E-09"
        iyy="6.0463702443185E-06"
        iyz="-1.38801160857731E-21"
        izz="6.04706077477716E-06" />
    </inertial>
    <visual>
      <origin
        xyz="0 0 0"
        rpy="0 0 0" />
      <geometry>
        <mesh
          filename="package://CRAB_0805/meshes/RB_JIAN_LINK.STL" />
      </geometry>
      <material
        name="">
        <color
          rgba="1 1 1 1" />
      </material>
    </visual>
    <collision>
      <origin
        xyz="0 0 0"
        rpy="0 0 0" />
      <geometry>
        <mesh
          filename="package://CRAB_0805/meshes/RB_JIAN_LINK.STL" />
      </geometry>
    </collision>
  </link>
  <joint
    name="RB_JIAN_JOINT"
    type="revolute">
    <origin
      xyz="-0.11412 -0.091732 -0.0205"
      rpy="0 0 -2.0944" />
    <parent
      link="base_link" />
    <child
      link="RB_JIAN_LINK" />
    <axis
      xyz="0 0 -1" />
    <limit
      lower="-1.5708"
      upper="1.5708"
      effort="0"
      velocity="0" />
  </joint>
  <link
    name="RB_ZHOU_LINK">
    <inertial>
      <origin
        xyz="0.0396391594133571 0.00182574465334864 -0.00183117810438424"
        rpy="0 0 0" />
      <mass
        value="0.0753858251987762" />
      <inertia
        ixx="1.16745222076052E-05"
        ixy="4.74426006593842E-21"
        ixz="-5.50571415715295E-21"
        iyy="2.11125980635044E-05"
        iyz="-3.51485012854343E-07"
        izz="1.49159407182101E-05" />
    </inertial>
    <visual>
      <origin
        xyz="0 0 0"
        rpy="0 0 0" />
      <geometry>
        <mesh
          filename="package://CRAB_0805/meshes/RB_ZHOU_LINK.STL" />
      </geometry>
      <material
        name="">
        <color
          rgba="1 1 1 1" />
      </material>
    </visual>
    <collision>
      <origin
        xyz="0 0 0"
        rpy="0 0 0" />
      <geometry>
        <mesh
          filename="package://CRAB_0805/meshes/RB_ZHOU_LINK.STL" />
      </geometry>
    </collision>
  </link>
  <joint
    name="RB_ZHOU_JOINT"
    type="revolute">
    <origin
      xyz="0.052 0 0"
      rpy="1.5708 0 0" />
    <parent
      link="RB_JIAN_LINK" />
    <child
      link="RB_ZHOU_LINK" />
    <axis
      xyz="0 0 -1" />
    <limit
      lower="-1.5708"
      upper="1.5708"
      effort="0"
      velocity="0" />
  </joint>
  <link
    name="RB_XI_LINK">
    <inertial>
      <origin
        xyz="0.0932005324069178 -0.00101571293098257 0.000790208592210795"
        rpy="0 0 0" />
      <mass
        value="0.0276700407550858" />
      <inertia
        ixx="5.17145492996372E-06"
        ixy="9.42052533165286E-10"
        ixz="2.17245663775454E-20"
        iyy="2.93413790527495E-05"
        iyz="1.6940658945086E-21"
        izz="2.73009463290136E-05" />
    </inertial>
    <visual>
      <origin
        xyz="0 0 0"
        rpy="0 0 0" />
      <geometry>
        <mesh
          filename="package://CRAB_0805/meshes/RB_XI_LINK.STL" />
      </geometry>
      <material
        name="">
        <color
          rgba="1 1 1 1" />
      </material>
    </visual>
    <collision>
      <origin
        xyz="0 0 0"
        rpy="0 0 0" />
      <geometry>
        <mesh
          filename="package://CRAB_0805/meshes/RB_XI_LINK.STL" />
      </geometry>
    </collision>
  </link>
  <joint
    name="RB_XI_JOINT"
    type="revolute">
    <origin
      xyz="0.08 0 0"
      rpy="0 0 -1.5708" />
    <parent
      link="RB_ZHOU_LINK" />
    <child
      link="RB_XI_LINK" />
    <axis
      xyz="0 0 1" />
    <limit
      lower="-1.5708"
      upper="1.5708"
      effort="0"
      velocity="0" />
  </joint>
  <link
    name="RB_R_LINK">
    <inertial>
      <origin
        xyz="-2.77555756156289E-17 -5.55111512312578E-17 0"
        rpy="0 0 0" />
      <mass
        value="4.18879020478639E-06" />
      <inertia
        ixx="1.67551608191456E-12"
        ixy="0"
        ixz="1.79366203433577E-43"
        iyy="1.67551608191456E-12"
        iyz="3.09442984934322E-29"
        izz="1.67551608191456E-12" />
    </inertial>
    <visual>
      <origin
        xyz="0 0 0"
        rpy="0 0 0" />
      <geometry>
        <mesh
          filename="package://CRAB_0805/meshes/RB_R_LINK.STL" />
      </geometry>
      <material
        name="">
        <color
          rgba="0.792156862745098 0.819607843137255 0.933333333333333 1" />
      </material>
    </visual>
    <collision>
      <origin
        xyz="0 0 0"
        rpy="0 0 0" />
      <geometry>
        <mesh
          filename="package://CRAB_0805/meshes/RB_R_LINK.STL" />
      </geometry>
    </collision>
  </link>
  <joint
    name="RB_R_JOINT"
    type="revolute">
    <origin
      xyz="0.2095 0 0"
      rpy="1.5708 1.0472 -1.5708" />
    <parent
      link="RB_XI_LINK" />
    <child
      link="RB_R_LINK" />
    <axis
      xyz="0 0 -1" />
    <limit
      lower="-1.5708"
      upper="1.5708"
      effort="0"
      velocity="0" />
  </joint>
  <link
    name="RB_P_LINK">
    <inertial>
      <origin
        xyz="0 -5.55111512312578E-17 -2.77555756156289E-17"
        rpy="0 0 0" />
      <mass
        value="4.18879020478639E-06" />
      <inertia
        ixx="1.67551608191456E-12"
        ixy="-3.09442984934322E-29"
        ixz="-1.79366203433577E-43"
        iyy="1.67551608191456E-12"
        iyz="0"
        izz="1.67551608191456E-12" />
    </inertial>
    <visual>
      <origin
        xyz="0 0 0"
        rpy="0 0 0" />
      <geometry>
        <mesh
          filename="package://CRAB_0805/meshes/RB_P_LINK.STL" />
      </geometry>
      <material
        name="">
        <color
          rgba="0.792156862745098 0.819607843137255 0.933333333333333 1" />
      </material>
    </visual>
    <collision>
      <origin
        xyz="0 0 0"
        rpy="0 0 0" />
      <geometry>
        <mesh
          filename="package://CRAB_0805/meshes/RB_P_LINK.STL" />
      </geometry>
    </collision>
  </link>
  <joint
    name="RB_P_JOINT"
    type="revolute">
    <origin
      xyz="0 0 0"
      rpy="0 1.5708 0" />
    <parent
      link="RB_R_LINK" />
    <child
      link="RB_P_LINK" />
    <axis
      xyz="0 0 -1" />
    <limit
      lower="-1.5708"
      upper="1.5708"
      effort="0"
      velocity="0" />
  </joint>
  <link
    name="RB_Y_LINK">
    <inertial>
      <origin
        xyz="0 -2.77555756156289E-17 5.55111512312578E-17"
        rpy="0 0 0" />
      <mass
        value="4.18879020478639E-06" />
      <inertia
        ixx="1.67551608191456E-12"
        ixy="-1.79366203433577E-43"
        ixz="3.09442984934322E-29"
        iyy="1.67551608191456E-12"
        iyz="0"
        izz="1.67551608191456E-12" />
    </inertial>
    <visual>
      <origin
        xyz="0 0 0"
        rpy="0 0 0" />
      <geometry>
        <mesh
          filename="package://CRAB_0805/meshes/RB_Y_LINK.STL" />
      </geometry>
      <material
        name="">
        <color
          rgba="0.792156862745098 0.819607843137255 0.933333333333333 1" />
      </material>
    </visual>
    <collision>
      <origin
        xyz="0 0 0"
        rpy="0 0 0" />
      <geometry>
        <mesh
          filename="package://CRAB_0805/meshes/RB_Y_LINK.STL" />
      </geometry>
    </collision>
  </link>
  <joint
    name="RB_Y_JOINT"
    type="revolute">
    <origin
      xyz="0 0 0"
      rpy="1.5708 0 0" />
    <parent
      link="RB_P_LINK" />
    <child
      link="RB_Y_LINK" />
    <axis
      xyz="0 0 1" />
    <limit
      lower="-1.5708"
      upper="1.5708"
      effort="0"
      velocity="0" />
  </joint>
</robot>
